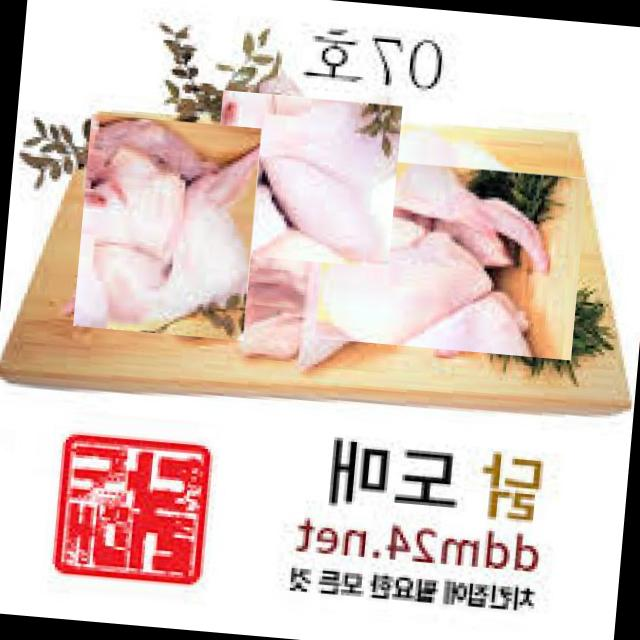chicken: (331, 139, 570, 377), (72, 113, 262, 341), (212, 86, 398, 272)
